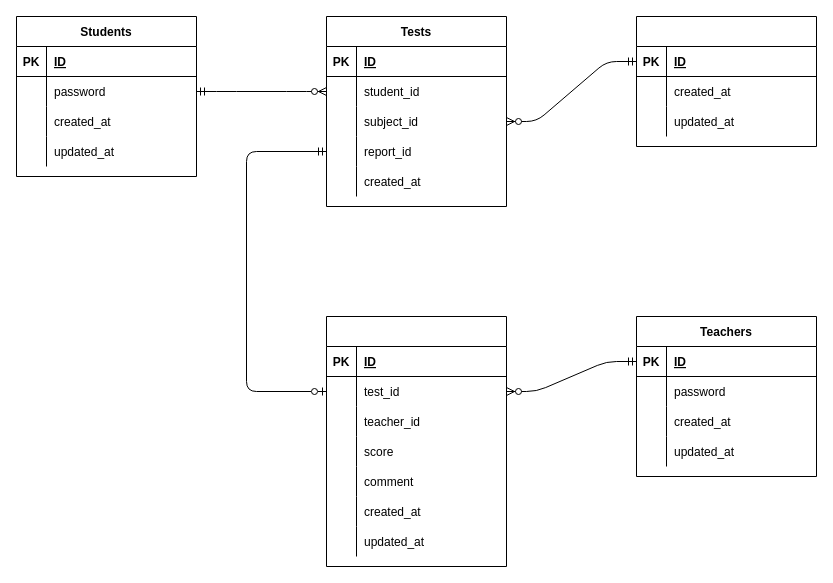
This 833x583 diagram has some shape labels left out. Here are the shapes that lost their labels. From the top down, the box of each, then its label:
(636, 16, 816, 146): Subjects
(326, 316, 506, 566): Reports
